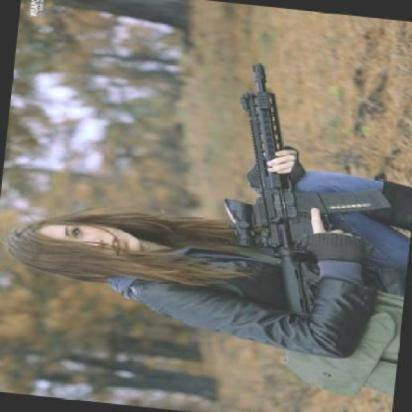Gun: (198, 54, 407, 325)
